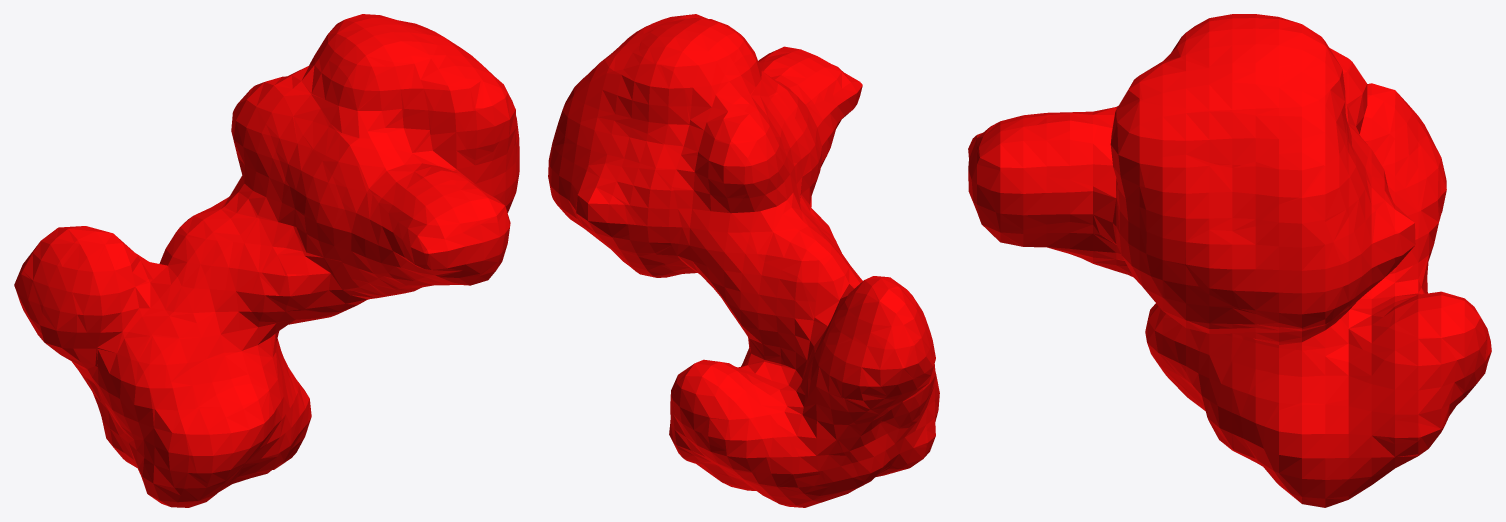
Rendered from yehS_coarse.dae.
3 views of the same model, side by side, from view 1: azimuth 30°, elevation 25°; view 2: azimuth 150°, elevation 25°; view 3: azimuth 270°, elevation 25° (orthographic). The views are drawn at different scales.
Visible parts, largest first — view 1: yehS; view 2: yehS; view 3: yehS.
Boxes of the visible parts, left/top/right/bottom form: yehS: left=14, top=14, right=519, bottom=507; yehS: left=548, top=14, right=939, bottom=507; yehS: left=968, top=14, right=1491, bottom=507.
Size of the model in its own units: 56.62 by 56.14 by 50.37.
